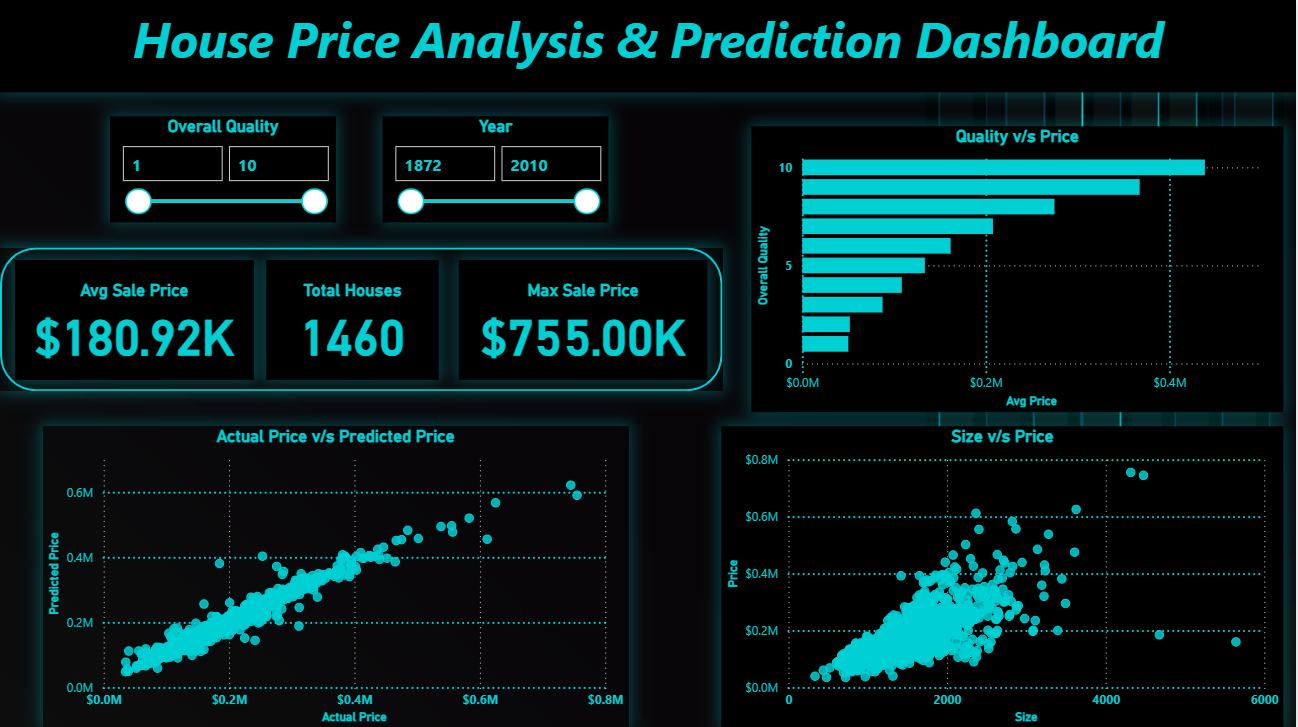

The dashboard page shown, as its layout file describes it:
{"tool":"powerbi","page":{"name":"Page 1","canvas":[1280,720],"ordinal":0},"visuals":[{"type":"card","title":"Avg Sale Price","fields":{"Values":["Avg(house_price_final.SalePrice)"]},"box":[14.8,256.8,235.8,118.5],"z":0},{"type":"card","title":"Max Sale Price","fields":{"Values":["Max(house_price_final.SalePrice)"]},"box":[453.1,256.8,245.7,118.5],"z":1000},{"type":"card","title":"Total Houses","fields":{"Values":["CountNonNull(house_price_final.Id)"]},"box":[263,256.8,170.4,118.5],"z":2000},{"type":"scatterChart","title":"Actual Price v/s Predicted Price","fields":{"X":["house_price_final.SalePrice"],"Y":["house_price_final.PredictedPrice"]},"box":[42,421,579,298.8],"z":3000},{"type":"clusteredBarChart","title":"Quality v/s Price","fields":{"Category":["house_price_final.OverallQual"],"Y":["Avg(house_price_final.SalePrice)"]},"box":[742,124.7,525.9,282.7],"z":4000},{"type":"scatterChart","title":"Size v/s Price","fields":{"X":["house_price_final.GrLivArea"],"Y":["house_price_final.SalePrice"]},"box":[712.3,421,555.6,298.8],"z":5000},{"type":"slicer","title":"Year","fields":{"Values":["house_price_final.YearBuilt"]},"box":[377.8,114.8,223.5,104.9],"z":6000},{"type":"slicer","title":"Overall Quality","fields":{"Values":["house_price_final.OverallQual"]},"box":[108.6,114.8,223.5,104.9],"z":7000},{"type":"textbox","box":[0,0,1280.2,91.4],"z":8000},{"type":"shape","box":[0,244.4,713.6,142],"z":9000}]}

Visuals, with their boxes in screenshot pixels (x1, y1, x2, y2), scaled from the page's 1280x720 canvas onto the 1298x727 screenshot:
"Avg Sale Price" card: [left=15, top=259, right=254, bottom=379]
"Max Sale Price" card: [left=459, top=259, right=709, bottom=379]
"Total Houses" card: [left=267, top=259, right=439, bottom=379]
"Actual Price v/s Predicted Price" scatterChart: [left=43, top=425, right=630, bottom=726]
"Quality v/s Price" clusteredBarChart: [left=752, top=126, right=1286, bottom=411]
"Size v/s Price" scatterChart: [left=722, top=425, right=1286, bottom=726]
"Year" slicer: [left=383, top=116, right=610, bottom=222]
"Overall Quality" slicer: [left=110, top=116, right=337, bottom=222]
textbox: [left=0, top=0, right=1297, bottom=92]
shape: [left=0, top=247, right=724, bottom=390]
